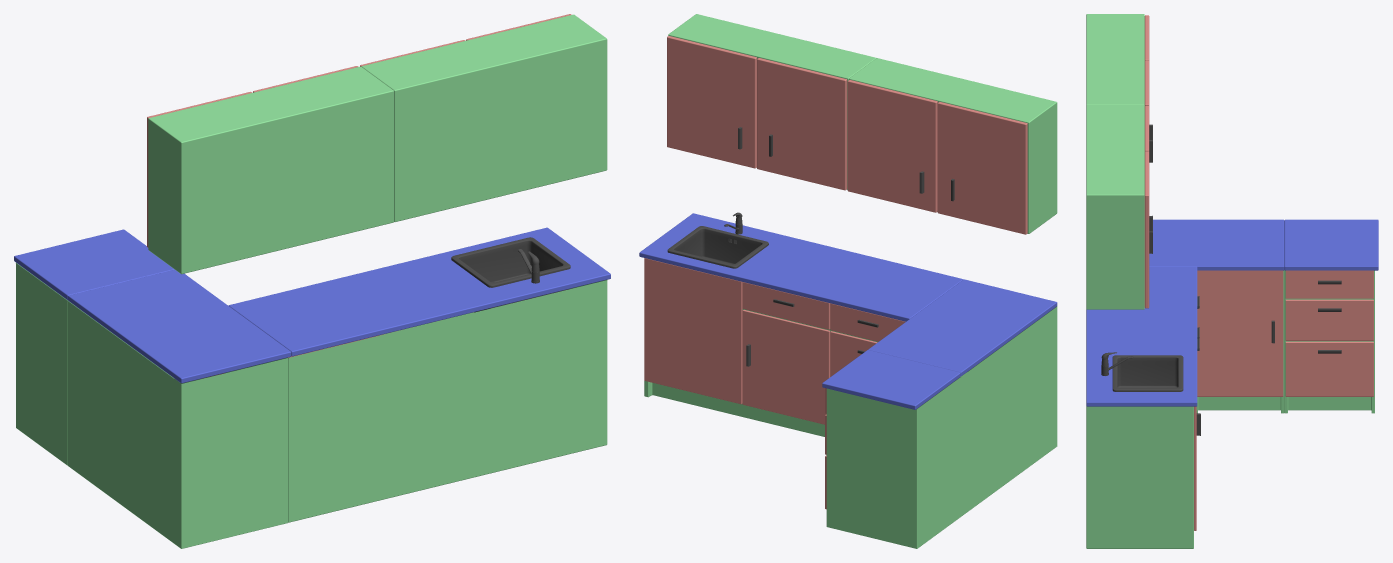
Rendered from HAVSEN set1.fbx.
The picture shows the model from 3 angles, left to right: view 1: azimuth 30°, elevation 25°; view 2: azimuth 150°, elevation 25°; view 3: azimuth 270°, elevation 25°; orthographic projection. The views are drawn at different scales.
Parts seen in each view (by area): view 1: left, Cube.003, corner, Cube.002, left.001, corner.001, right, right.001, Cube, Cube.007; view 2: left.002, Cube.007, Cube.001, right, corner, left.001, corner.001, Cube.003, Cube.002, right.001, Cube, left; view 3: left, Cube.002, right.002, corner.002, left.001, corner.001, Cube.003, right.001, Cube, right, corner, Cube.001 (+2 smaller).
Boxes of the visible parts, box(x1,y1,x2,y2) form: left: box(280, 280, 607, 522); Cube.003: box(148, 66, 393, 274); corner: box(68, 301, 287, 548); Cube.002: box(361, 14, 607, 221); left.001: box(228, 227, 610, 356); corner.001: box(68, 269, 291, 383); right: box(16, 263, 67, 465); right.001: box(14, 229, 174, 299); Cube: box(451, 237, 570, 312); Cube.007: box(147, 66, 358, 247); left.002: box(644, 258, 905, 424); Cube.007: box(847, 80, 1027, 234); Cube.001: box(667, 36, 847, 190); right: box(826, 377, 960, 548); corner: box(939, 306, 1057, 516); left.001: box(639, 213, 963, 321); corner.001: box(868, 279, 1057, 376); Cube.003: box(849, 58, 1057, 233); Cube.002: box(668, 14, 876, 189); right.001: box(822, 350, 960, 409); Cube: box(667, 226, 768, 268); left: box(644, 309, 877, 436); left: box(1086, 406, 1193, 548); Cube.002: box(1086, 104, 1144, 309); right.002: box(1285, 270, 1373, 396); corner.002: box(1197, 270, 1283, 396); left.001: box(1086, 266, 1197, 406); corner.001: box(1149, 219, 1284, 270); Cube.003: box(1086, 14, 1144, 104); right.001: box(1284, 219, 1378, 270); Cube: box(1112, 355, 1183, 391); right: box(1284, 270, 1374, 413); corner: box(1196, 270, 1284, 413); Cube.001: box(1144, 106, 1149, 308).
Bounding box in the file's own units: 245 × 222 × 166.
